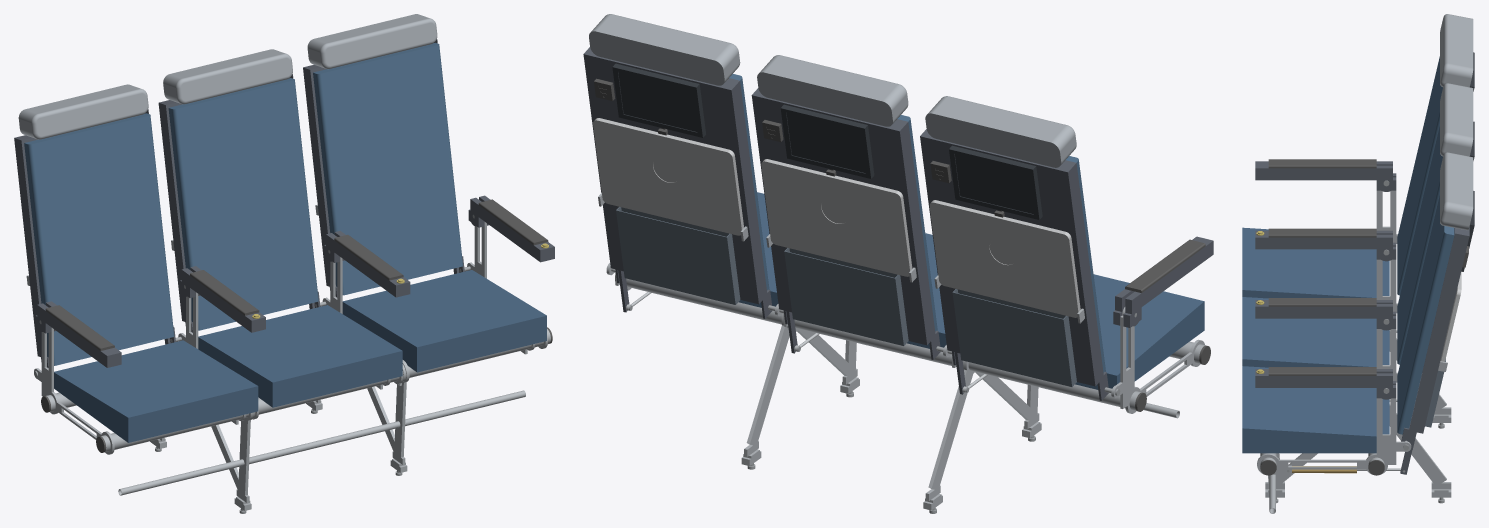
Rendered from step_06.glb.
The picture shows the model from 3 angles, left to right: view 1: azimuth 30°, elevation 25°; view 2: azimuth 150°, elevation 25°; view 3: azimuth 270°, elevation 25°; orthographic projection. The views are drawn at different scales.
Visible parts, largest first — view 1: part__seat 3 back cushion cover, part__seat 2 back cushion cover, part__seat 1 back cushion cover, part__seat 1 cushion cover, part__seat 2 cushion cover, part__seat 3 cushion cover, part__seat 2 head rest, part__seat 3 head rest, part__seat 1 head rest, part__baggage bar, part__seat 3 back shell, part__seat 1 back shell (+16 smaller); view 2: part__seat 1 tray table, part__seat 2 tray table, part__seat 3 tray table, part__seat 1 back shell, part__seat 2 back shell, part__seat 3 back shell, part__seat 2 literature pocket, part__seat 3 literature pocket, part__seat 1 literature pocket, part__seat 2 head rest, part__seat 1 head rest, part__seat 3 head rest (+15 smaller); view 3: part__seat 3 cushion cover, part__seat 2 cushion cover, part__seat 1 cushion cover, part__seat 3 back cushion cover, part__seat 3 back shell, part__seat 1 back cushion cover, part__seat 2 back cushion cover, part__seat 3 head rest, part__seat 2 head rest, part__seat 1 head rest, part__spreader 4, part__armrest 1 (+15 smaller).
Boxes of the visible parts, box(x1,y1,x2,y2) form: part__seat 3 back cushion cover: box(313, 42, 462, 295); part__seat 2 back cushion cover: box(168, 78, 318, 330); part__seat 1 back cushion cover: box(24, 113, 174, 365); part__seat 1 cushion cover: box(54, 340, 258, 442); part__seat 2 cushion cover: box(198, 305, 402, 407); part__seat 3 cushion cover: box(342, 270, 546, 372); part__seat 2 head rest: box(163, 49, 292, 104); part__seat 3 head rest: box(307, 14, 437, 69); part__seat 1 head rest: box(18, 84, 148, 139); part__baggage bar: box(118, 390, 525, 495); part__seat 3 back shell: box(303, 39, 464, 297); part__seat 1 back shell: box(14, 109, 175, 367); part__seat 1 tray table: box(929, 200, 1080, 317); part__seat 2 tray table: box(761, 159, 912, 276); part__seat 3 tray table: box(593, 118, 743, 235); part__seat 1 back shell: box(920, 129, 1108, 400); part__seat 2 back shell: box(751, 88, 940, 359); part__seat 3 back shell: box(583, 47, 772, 318); part__seat 2 literature pocket: box(784, 248, 908, 345); part__seat 3 literature pocket: box(616, 207, 740, 304); part__seat 1 literature pocket: box(952, 289, 1076, 386); part__seat 2 head rest: box(757, 55, 908, 126); part__seat 1 head rest: box(925, 96, 1076, 167); part__seat 3 head rest: box(589, 14, 740, 85); part__seat 3 cushion cover: box(1242, 366, 1389, 453); part__seat 2 cushion cover: box(1242, 297, 1389, 367); part__seat 1 cushion cover: box(1242, 227, 1389, 298); part__seat 3 back cushion cover: box(1397, 195, 1454, 434); part__seat 3 back shell: box(1400, 227, 1469, 474); part__seat 1 back cushion cover: box(1397, 56, 1442, 295); part__seat 2 back cushion cover: box(1397, 126, 1442, 364); part__seat 3 head rest: box(1440, 152, 1473, 230); part__seat 2 head rest: box(1440, 83, 1473, 156); part__seat 1 head rest: box(1440, 14, 1473, 87); part__spreader 4: box(1257, 398, 1411, 474); part__armrest 1: box(1255, 161, 1396, 191).
Bounding box in the file's own units: 1554 × 1201 × 709.
